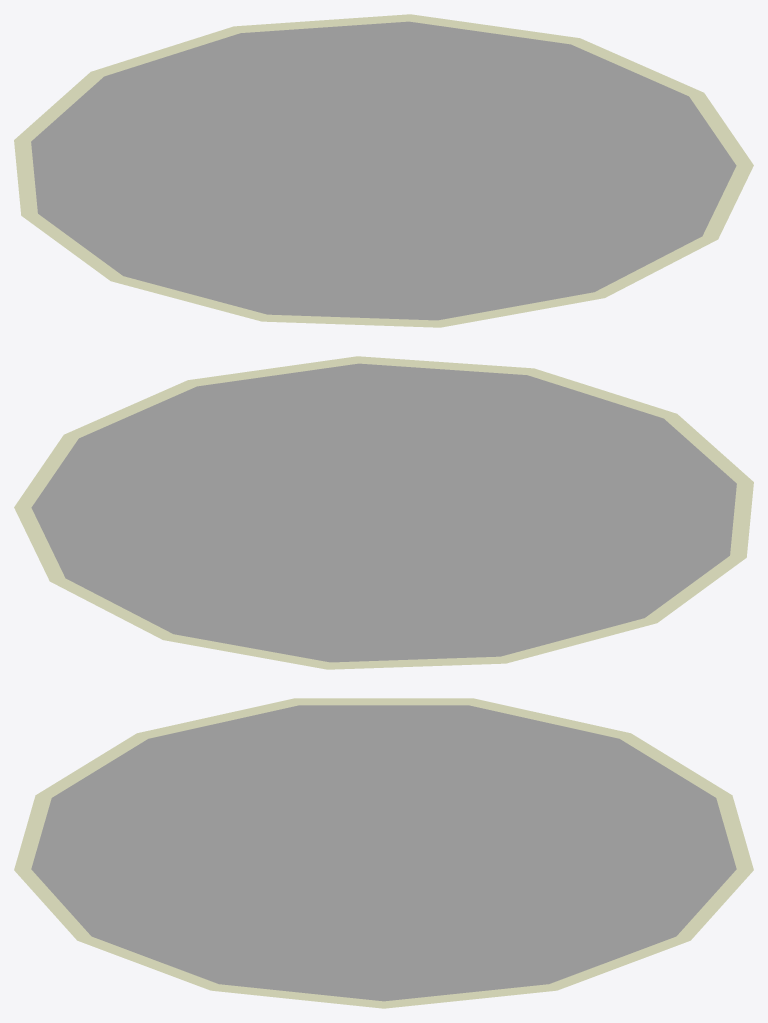
File: CustumStage.fbx
The picture shows the model from 3 angles, top to bottom: view 1: azimuth 30°, elevation 25°; view 2: azimuth 150°, elevation 25°; view 3: azimuth 270°, elevation 25°; orthographic projection.
Visible parts, largest first — view 1: Tuning; view 2: Tuning; view 3: Tuning.
Boxes of the visible parts, bbox=[...] form: Tuning: bbox=[14, 14, 753, 327]; Tuning: bbox=[14, 356, 753, 669]; Tuning: bbox=[14, 698, 753, 1008].
Bounding box in the file's own units: 17.88 × 0 × 18.01.
